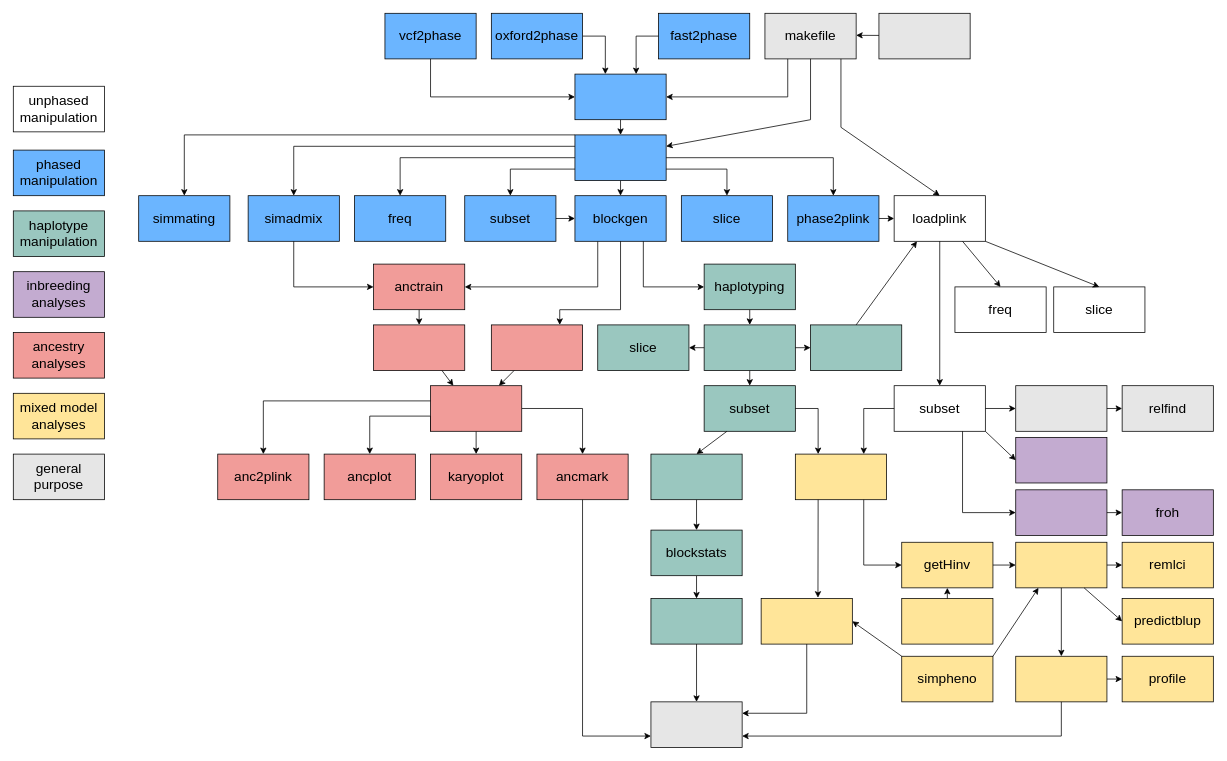
This 1227x761 diagram has some shape labels left out. Each missing label, with the centre of its shape:
"ancsmooth" goes at point 476,408.
"ancsvm" goes at point 537,347.
"anctest" goes at point 419,347.
"assoc" goes at point 806,621.
"compress" goes at point 620,96.
"exfiles" goes at point 924,36.
"fst" goes at point 696,621.
"hap2plink" goes at point 856,347.
"hapstats" goes at point 696,476.
"ibd" goes at point 1061,408.
"incoef" goes at point 1061,460.
"kinship" goes at point 841,476.
"lmm" goes at point 1061,565.
"loadhaplo" goes at point 749,347.
"loadphase" goes at point 620,157.
"manhattan" goes at point 696,724.
"pedcheck" goes at point 947,621.
"roh" goes at point 1061,512.
"varblup" goes at point 1061,679.
